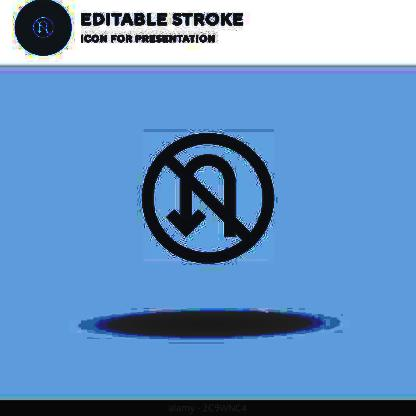No U-turn: (138, 127, 279, 266)
